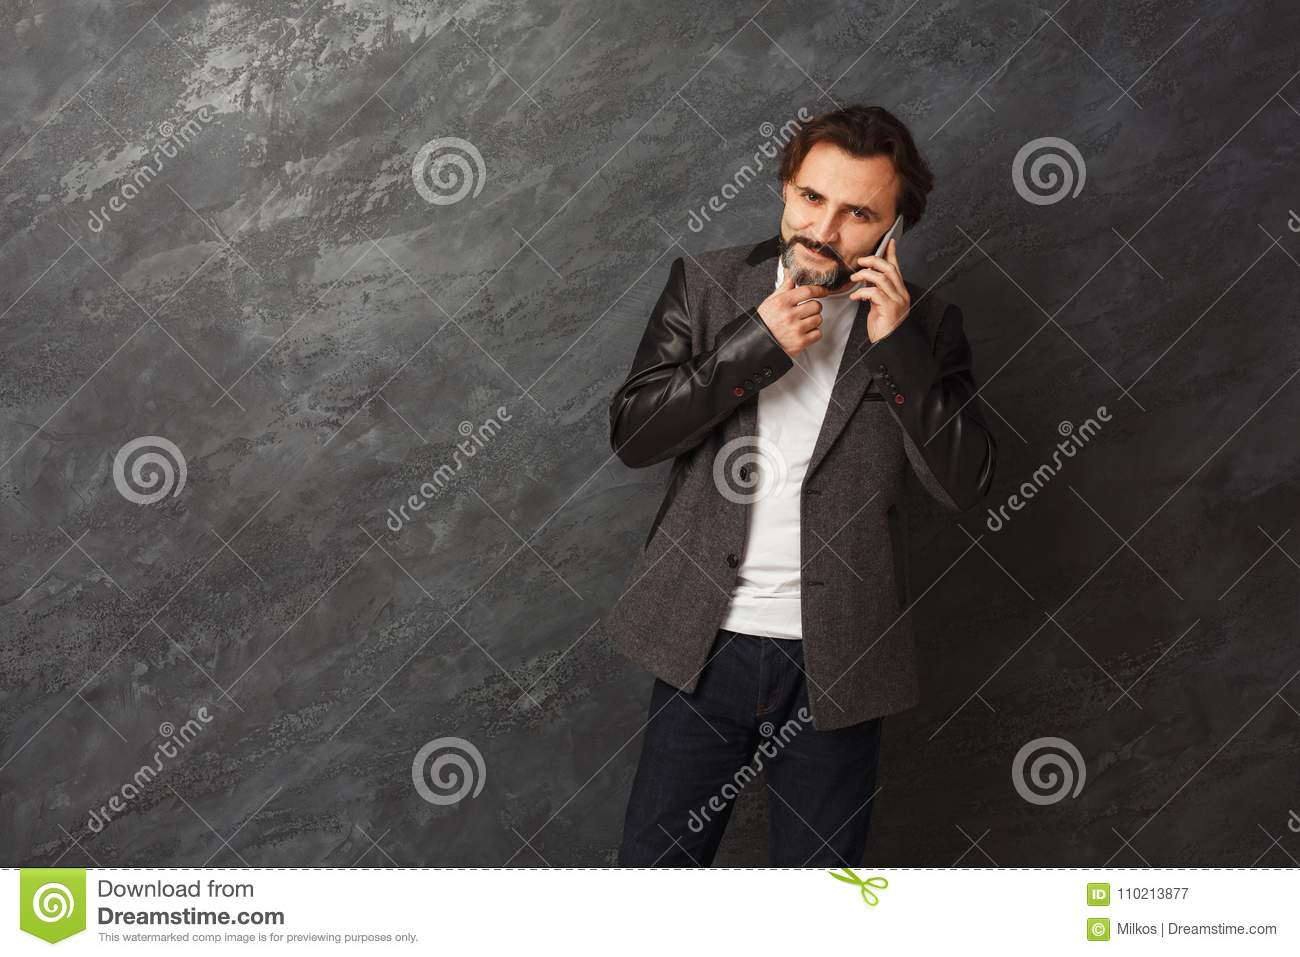phone: (867, 218, 906, 298)
talk: (782, 187, 911, 338)
